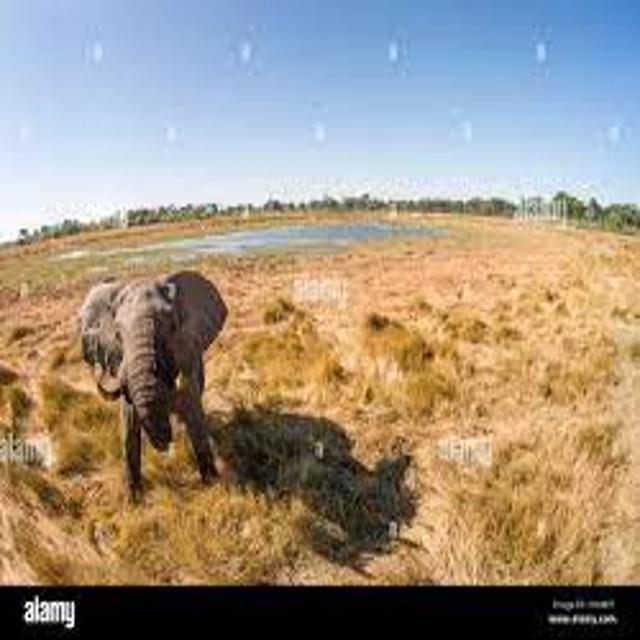Elephant: (39, 242, 258, 506)
